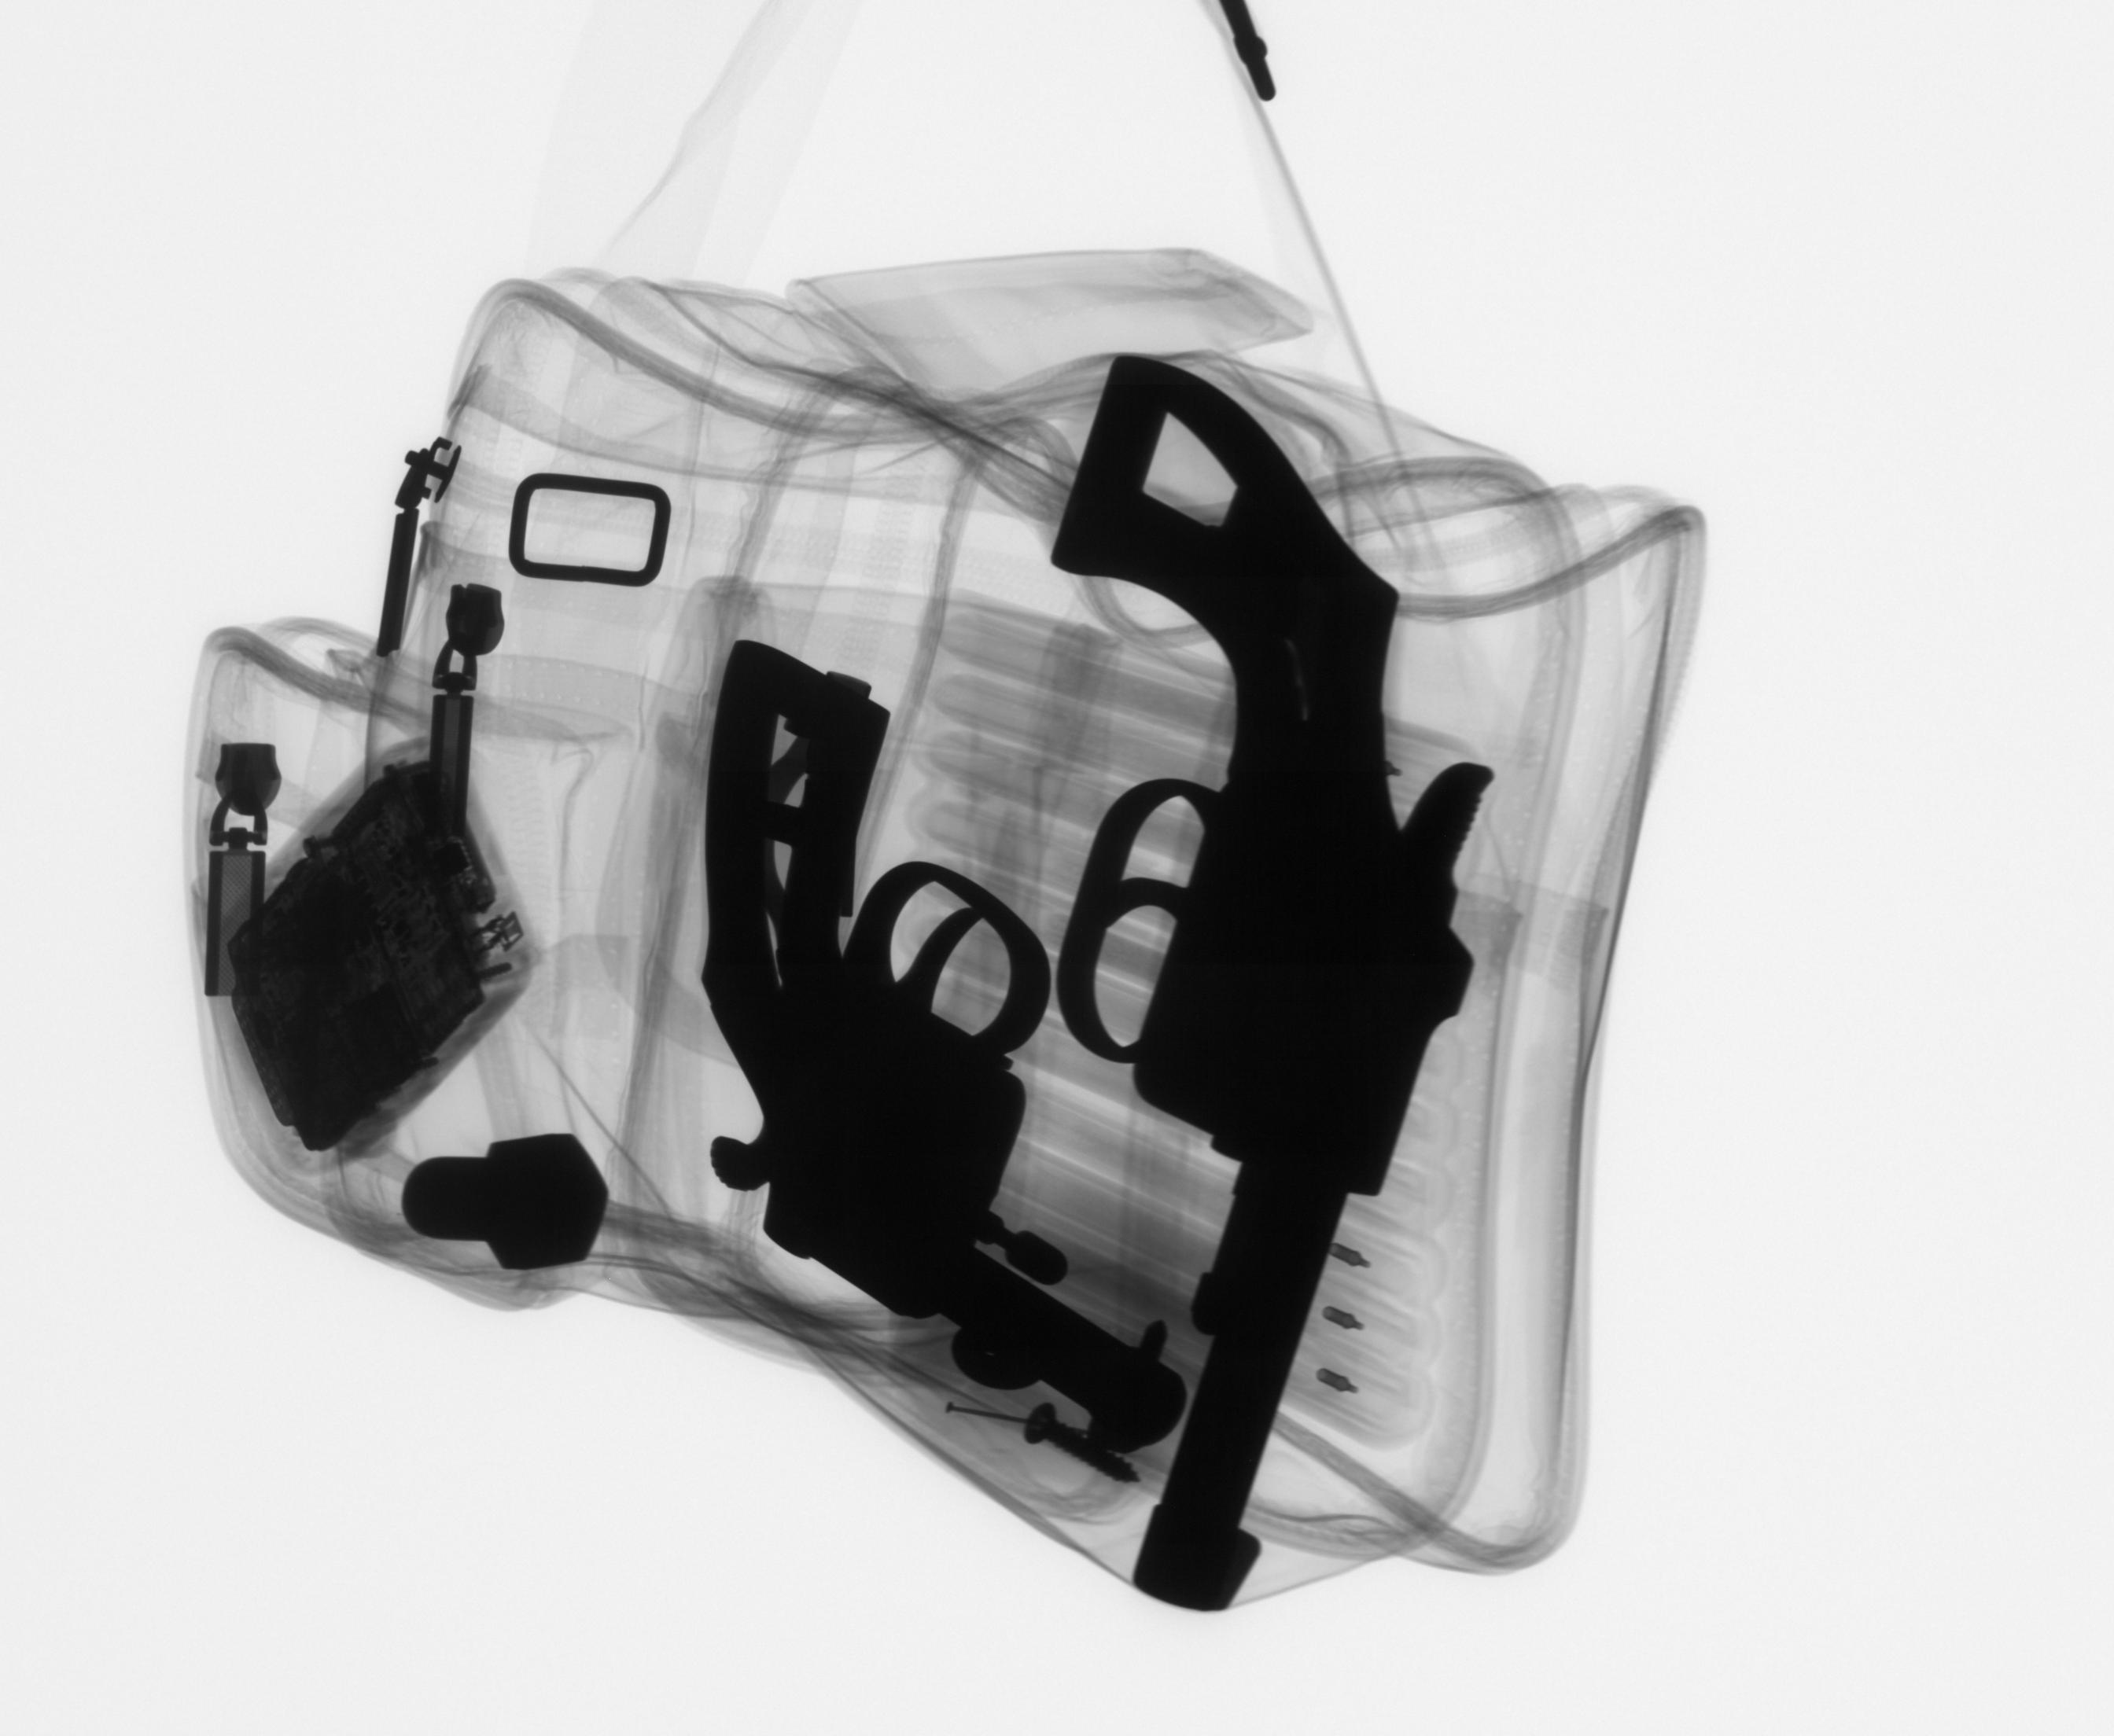Handgun: (1036, 341, 1550, 1639), (685, 604, 1201, 1466)
